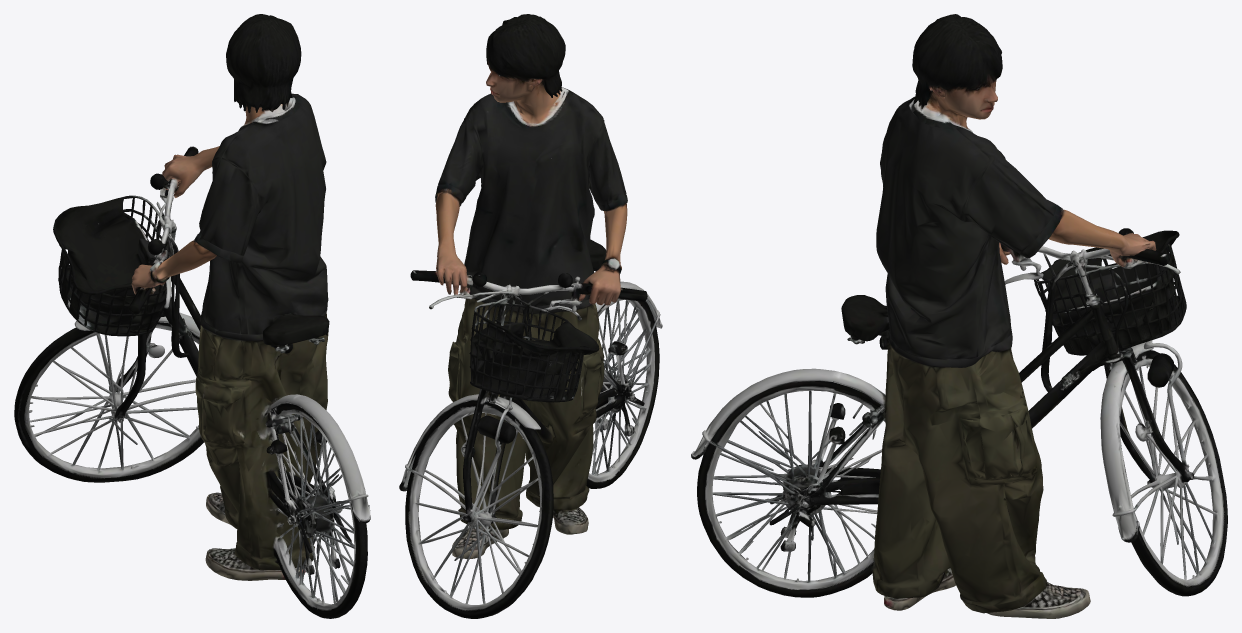
File: bicycle-rider-mobile.glb
3 views of the same model, side by side, from view 1: azimuth 30°, elevation 25°; view 2: azimuth 150°, elevation 25°; view 3: azimuth 270°, elevation 25° (orthographic). The views are drawn at different scales.
Parts seen in each view (by area): view 1: tripo_node_6c22886b-eff7-445f-9eee-04f22dd47206; view 2: tripo_node_6c22886b-eff7-445f-9eee-04f22dd47206; view 3: tripo_node_6c22886b-eff7-445f-9eee-04f22dd47206.
Boxes of the visible parts, box(x1,y1,x2,y2) form: tripo_node_6c22886b-eff7-445f-9eee-04f22dd47206: box(14, 14, 370, 618); tripo_node_6c22886b-eff7-445f-9eee-04f22dd47206: box(399, 14, 662, 618); tripo_node_6c22886b-eff7-445f-9eee-04f22dd47206: box(691, 14, 1227, 618).
Bounding box in the file's own units: 0.3715 × 0.9778 × 0.8093.
1 material, 1 textured.
